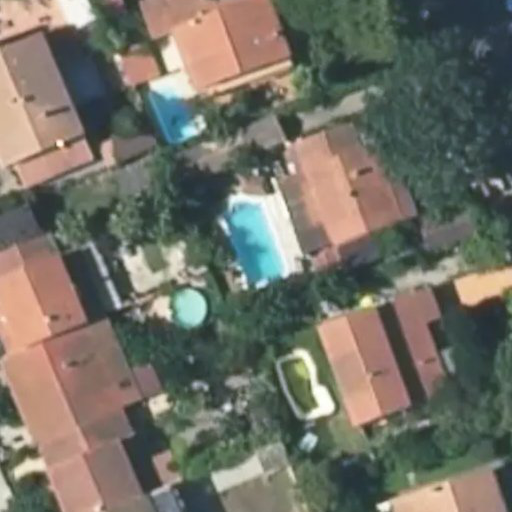pool: (219, 209, 292, 274)
